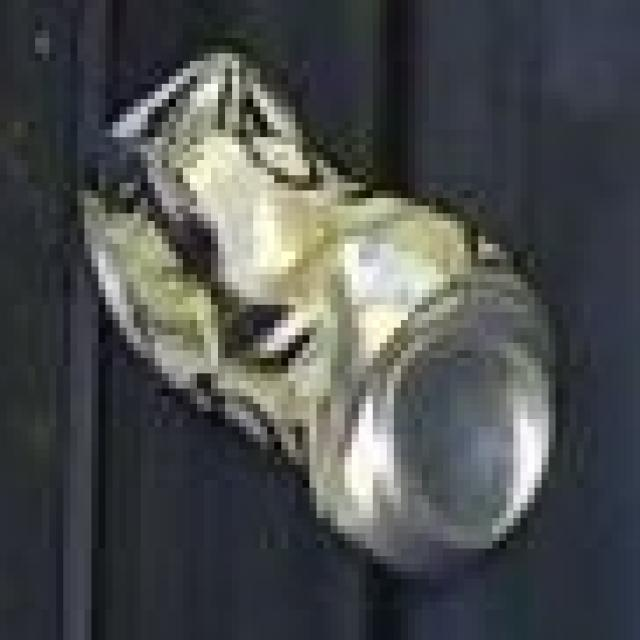can: (76, 49, 556, 552)
